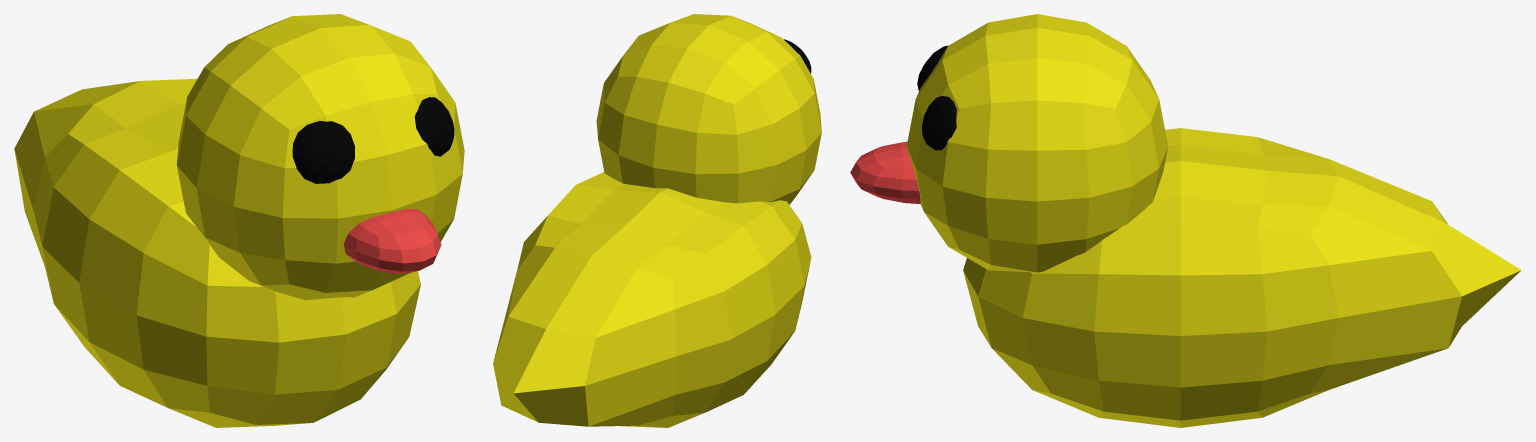
Rendered from duckfbx.fbx.
The picture shows the model from 3 angles, left to right: view 1: azimuth 30°, elevation 25°; view 2: azimuth 150°, elevation 25°; view 3: azimuth 270°, elevation 25°; orthographic projection. The views are drawn at different scales.
Parts seen in each view (by area): view 1: Cube.003; view 2: Cube.003; view 3: Cube.003.
Boxes of the visible parts, box(x1,y1,x2,y2) form: Cube.003: box(14, 14, 464, 427); Cube.003: box(493, 14, 821, 427); Cube.003: box(850, 14, 1521, 427).
Bounding box in the file's own units: 295 × 407 × 635.
